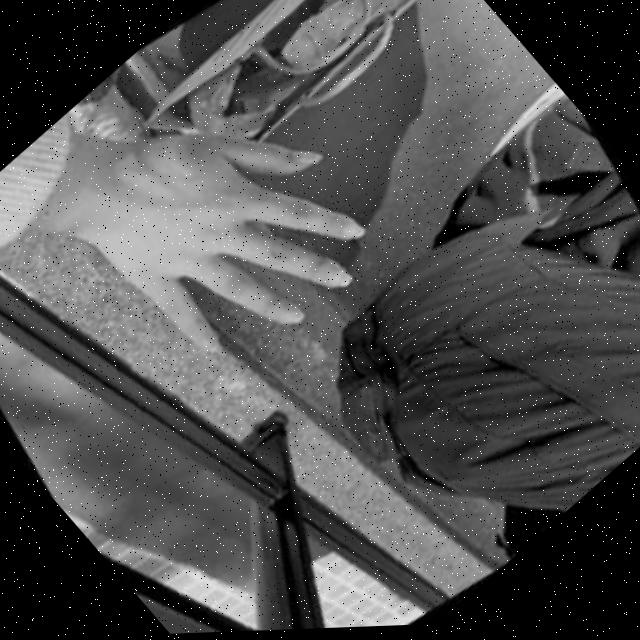hand: (62, 52, 402, 405)
